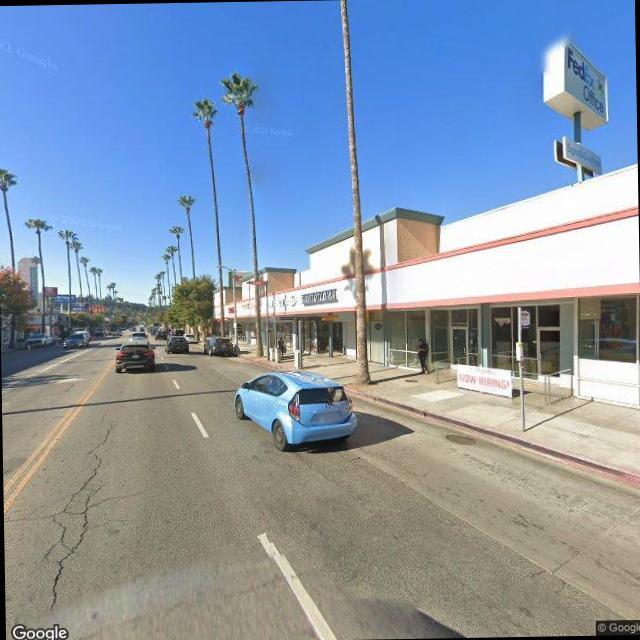crack: (8, 418, 140, 618)
